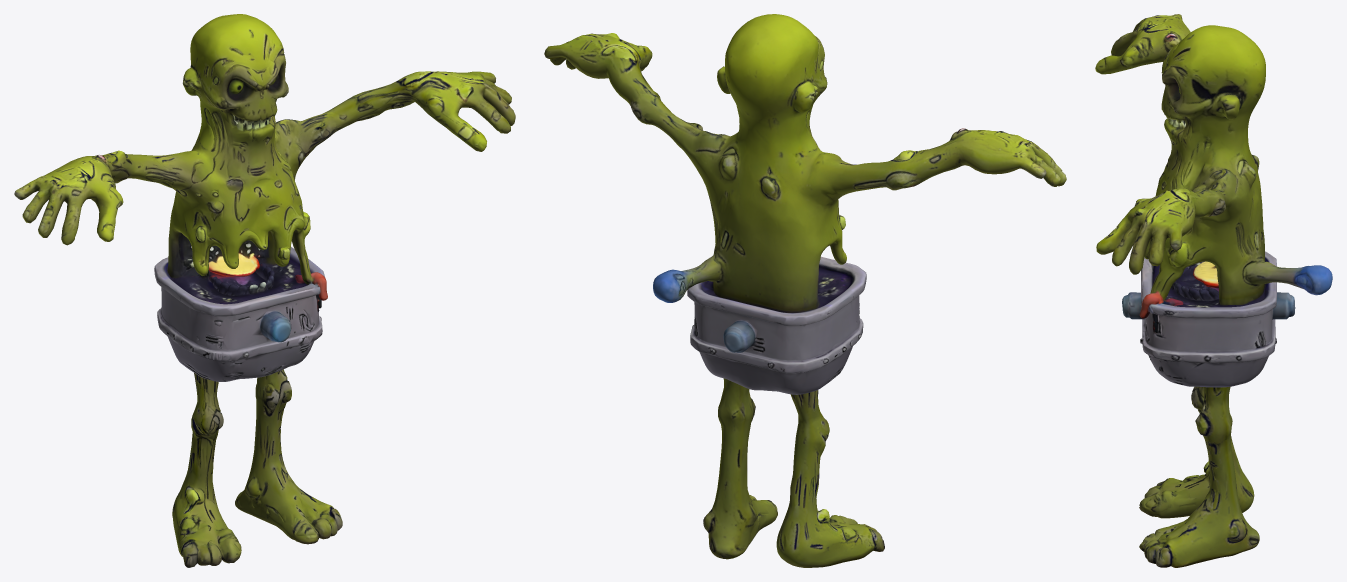
File: the_deep_fryer.glb
3 views of the same model, side by side, from view 1: azimuth 30°, elevation 25°; view 2: azimuth 150°, elevation 25°; view 3: azimuth 270°, elevation 25° (orthographic). The views are drawn at different scales.
Parts seen in each view (by area): view 1: tripo_node_85967770-38ef-4a84-ac82-10f942a0d272; view 2: tripo_node_85967770-38ef-4a84-ac82-10f942a0d272; view 3: tripo_node_85967770-38ef-4a84-ac82-10f942a0d272.
Boxes of the visible parts, x1=… form: tripo_node_85967770-38ef-4a84-ac82-10f942a0d272: x1=14, y1=14, x2=515, y2=567; tripo_node_85967770-38ef-4a84-ac82-10f942a0d272: x1=544, y1=14, x2=1066, y2=567; tripo_node_85967770-38ef-4a84-ac82-10f942a0d272: x1=1095, y1=14, x2=1332, y2=567.
Bounding box in the file's own units: 0.9787 × 0.9807 × 0.419.
1 material, 1 textured.
